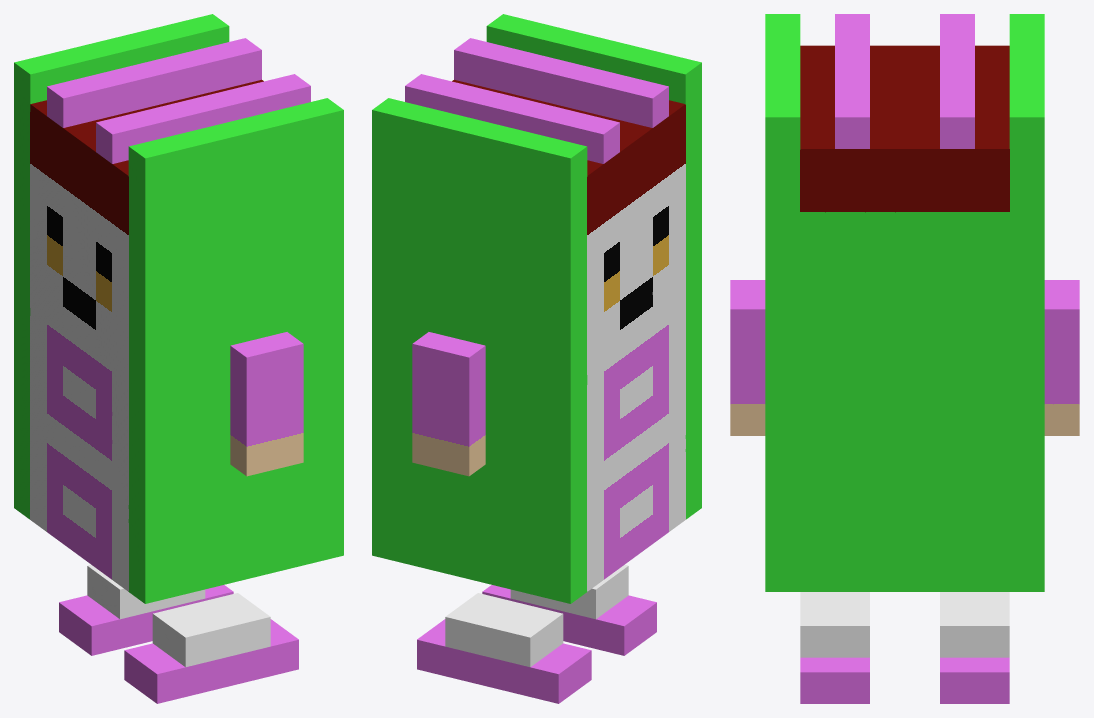
The model's file is Player_18.fbx.
3 views of the same model, side by side, from view 1: azimuth 30°, elevation 25°; view 2: azimuth 150°, elevation 25°; view 3: azimuth 270°, elevation 25° (orthographic). The views are drawn at different scales.
Visible parts, largest first — view 1: Main, LeftFoot, LeftHand, RightFoot; view 2: Main, RightFoot, RightHand, LeftFoot; view 3: Main, LeftFoot, RightFoot, RightHand, LeftHand.
Boxes of the visible parts, <box> form: Main: <box>14,14,343,603</box>; LeftFoot: <box>124,593,298,703</box>; LeftHand: <box>230,332,303,476</box>; RightFoot: <box>59,564,233,655</box>; Main: <box>372,14,701,603</box>; RightFoot: <box>417,593,591,703</box>; RightHand: <box>412,332,485,476</box>; LeftFoot: <box>482,564,656,655</box>; Main: <box>765,14,1044,591</box>; LeftFoot: <box>800,592,869,703</box>; RightFoot: <box>940,592,1009,703</box>; RightHand: <box>1044,280,1079,435</box>; LeftHand: <box>730,280,765,435</box>.
Bounding box in the file's own units: 7 × 19 × 10.
1 material, 1 textured.
